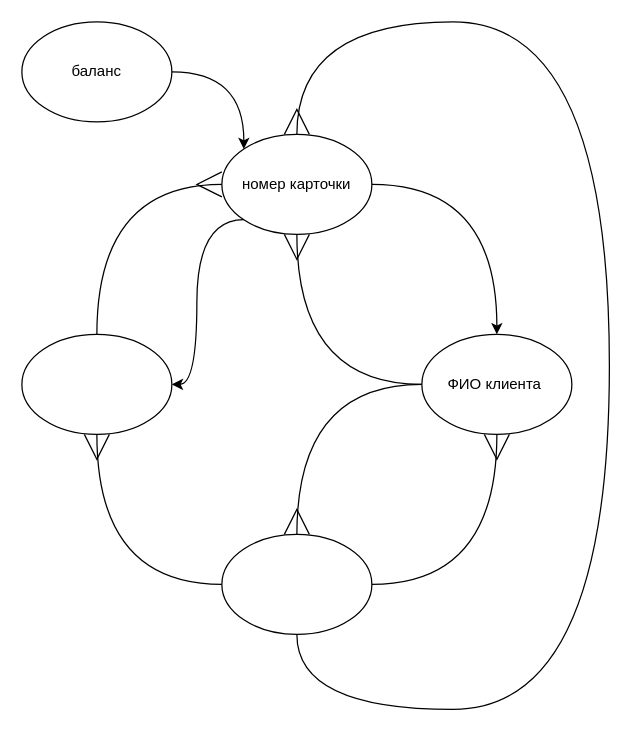
Image size: 631x731. Some labels were removed from this diagram. The shapes that lost their labels are listed below. From the top down, each one's box as (x1, y1, x2, y2) in pixels, then its label:
(21, 333, 172, 434): код банка
(221, 533, 372, 634): адрес клиента
